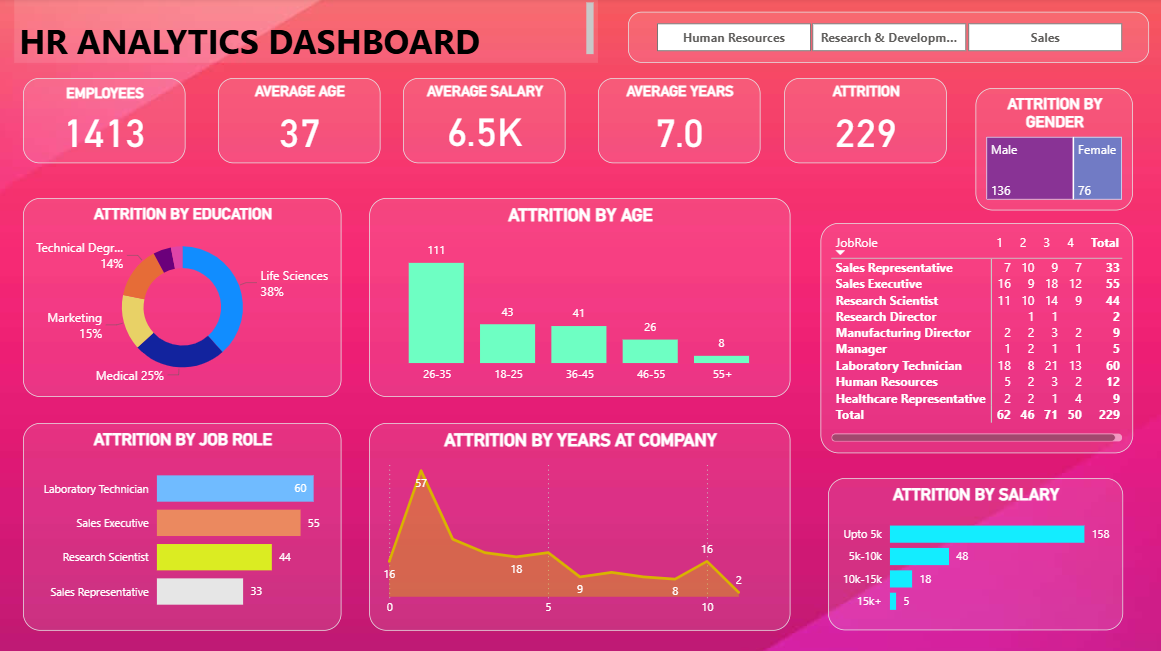

What the dashboard file says about the page in this screenshot:
{"tool":"powerbi","page":{"name":"Page 1","canvas":[1280,720],"ordinal":0},"visuals":[{"type":"card","title":"ATTRITION","fields":{"Values":["CountNonNull(HR_Analytics.attritiondata)"]},"box":[863.1,88.5,178.4,93.3],"z":0},{"type":"card","title":"AVERAGE SALARY","fields":{"Values":["Avg(HR_Analytics.MonthlyIncome)"]},"box":[444.6,87.8,178.4,93.3],"z":1000},{"type":"card","title":"EMPLOYEES","fields":{"Values":["CountNonNull(HR_Analytics.EmpID)"]},"box":[27.4,88.5,178.4,93.3],"z":2000},{"type":"card","title":"AVERAGE AGE","fields":{"Values":["Avg(HR_Analytics.Age)"]},"box":[241.5,88.5,178.4,93.3],"z":3000},{"type":"card","title":"AVERAGE YEARS","fields":{"Values":["Avg(HR_Analytics.YearsAtCompany)"]},"box":[658.7,88.5,178.4,93.3],"z":4000},{"type":"donutChart","title":"ATTRITION BY EDUCATION","fields":{"Category":["HR_Analytics.EducationField"],"Y":["CountNonNull(HR_Analytics.attritiondata)"]},"box":[27.4,219.6,349.9,218.2],"z":5000},{"type":"columnChart","title":"ATTRITION BY AGE","fields":{"Category":["HR_Analytics.AgeGroup"],"Y":["CountNonNull(HR_Analytics.attritiondata)"]},"box":[407.5,219.6,462.4,218.2],"z":6000},{"type":"pivotTable","fields":{"Values":["CountNonNull(HR_Analytics.attritiondata)"],"Columns":["HR_Analytics.JobSatisfaction"],"Rows":["HR_Analytics.JobRole"]},"box":[902.9,247,343.1,252.5],"z":7000},{"type":"barChart","title":"ATTRITION BY SALARY","fields":{"Category":["HR_Analytics.SalarySlab"],"Y":["CountNonNull(HR_Analytics.attritioncount)"]},"box":[911.2,526.9,323.8,167.4],"z":8000},{"type":"barChart","title":"ATTRITION BY JOB ROLE","fields":{"Category":["HR_Analytics.JobRole"],"Y":["CountNonNull(HR_Analytics.attritioncount)"]},"box":[27.4,466.6,349.9,227.8],"z":9000},{"type":"areaChart","title":"ATTRITION BY YEARS AT COMPANY","fields":{"Category":["HR_Analytics.YearsAtCompany"],"Y":["CountNonNull(HR_Analytics.attritioncount)"]},"box":[407.5,466.6,462.4,227.8],"z":10000},{"type":"treemap","title":"ATTRITION BY GENDER","fields":{"Group":["HR_Analytics.Gender"],"Values":["CountNonNull(HR_Analytics.attritioncount)"]},"box":[1073.1,98.8,172.9,134.5],"z":11000},{"type":"slicer","fields":{"Values":["HR_Analytics.Department"]},"box":[691.6,15.1,572.2,56.3],"z":12000},{"type":"textbox","box":[17.8,0,640.8,71.4],"z":13000}]}

Visuals, with their boxes in screenshot pixels (x1, y1, x2, y2), scaled from the page's 1280x720 canvas onto the 1161x651 screenshot:
"ATTRITION" card: select_region(783, 80, 945, 164)
"AVERAGE SALARY" card: select_region(403, 79, 565, 164)
"EMPLOYEES" card: select_region(25, 80, 187, 164)
"AVERAGE AGE" card: select_region(219, 80, 381, 164)
"AVERAGE YEARS" card: select_region(597, 80, 759, 164)
"ATTRITION BY EDUCATION" donutChart: select_region(25, 199, 342, 396)
"ATTRITION BY AGE" columnChart: select_region(370, 199, 789, 396)
pivotTable - CountNonNull(HR_Analytics.attritiondata) x HR_Analytics.JobSatisfaction: select_region(819, 223, 1130, 452)
"ATTRITION BY SALARY" barChart: select_region(826, 476, 1120, 628)
"ATTRITION BY JOB ROLE" barChart: select_region(25, 422, 342, 628)
"ATTRITION BY YEARS AT COMPANY" areaChart: select_region(370, 422, 789, 628)
"ATTRITION BY GENDER" treemap: select_region(973, 89, 1130, 211)
slicer - HR_Analytics.Department: select_region(627, 14, 1146, 65)
textbox: select_region(16, 0, 597, 65)
